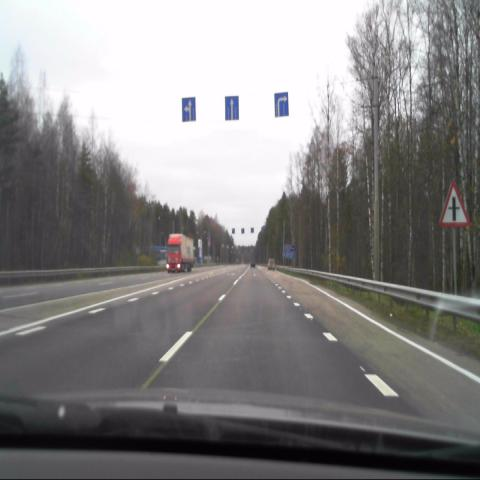2_3: (440, 183, 468, 229)
